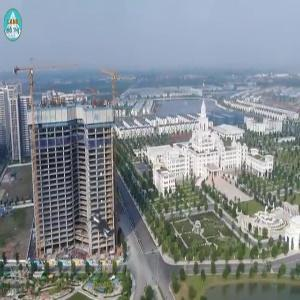drone: (63, 182, 148, 267)
